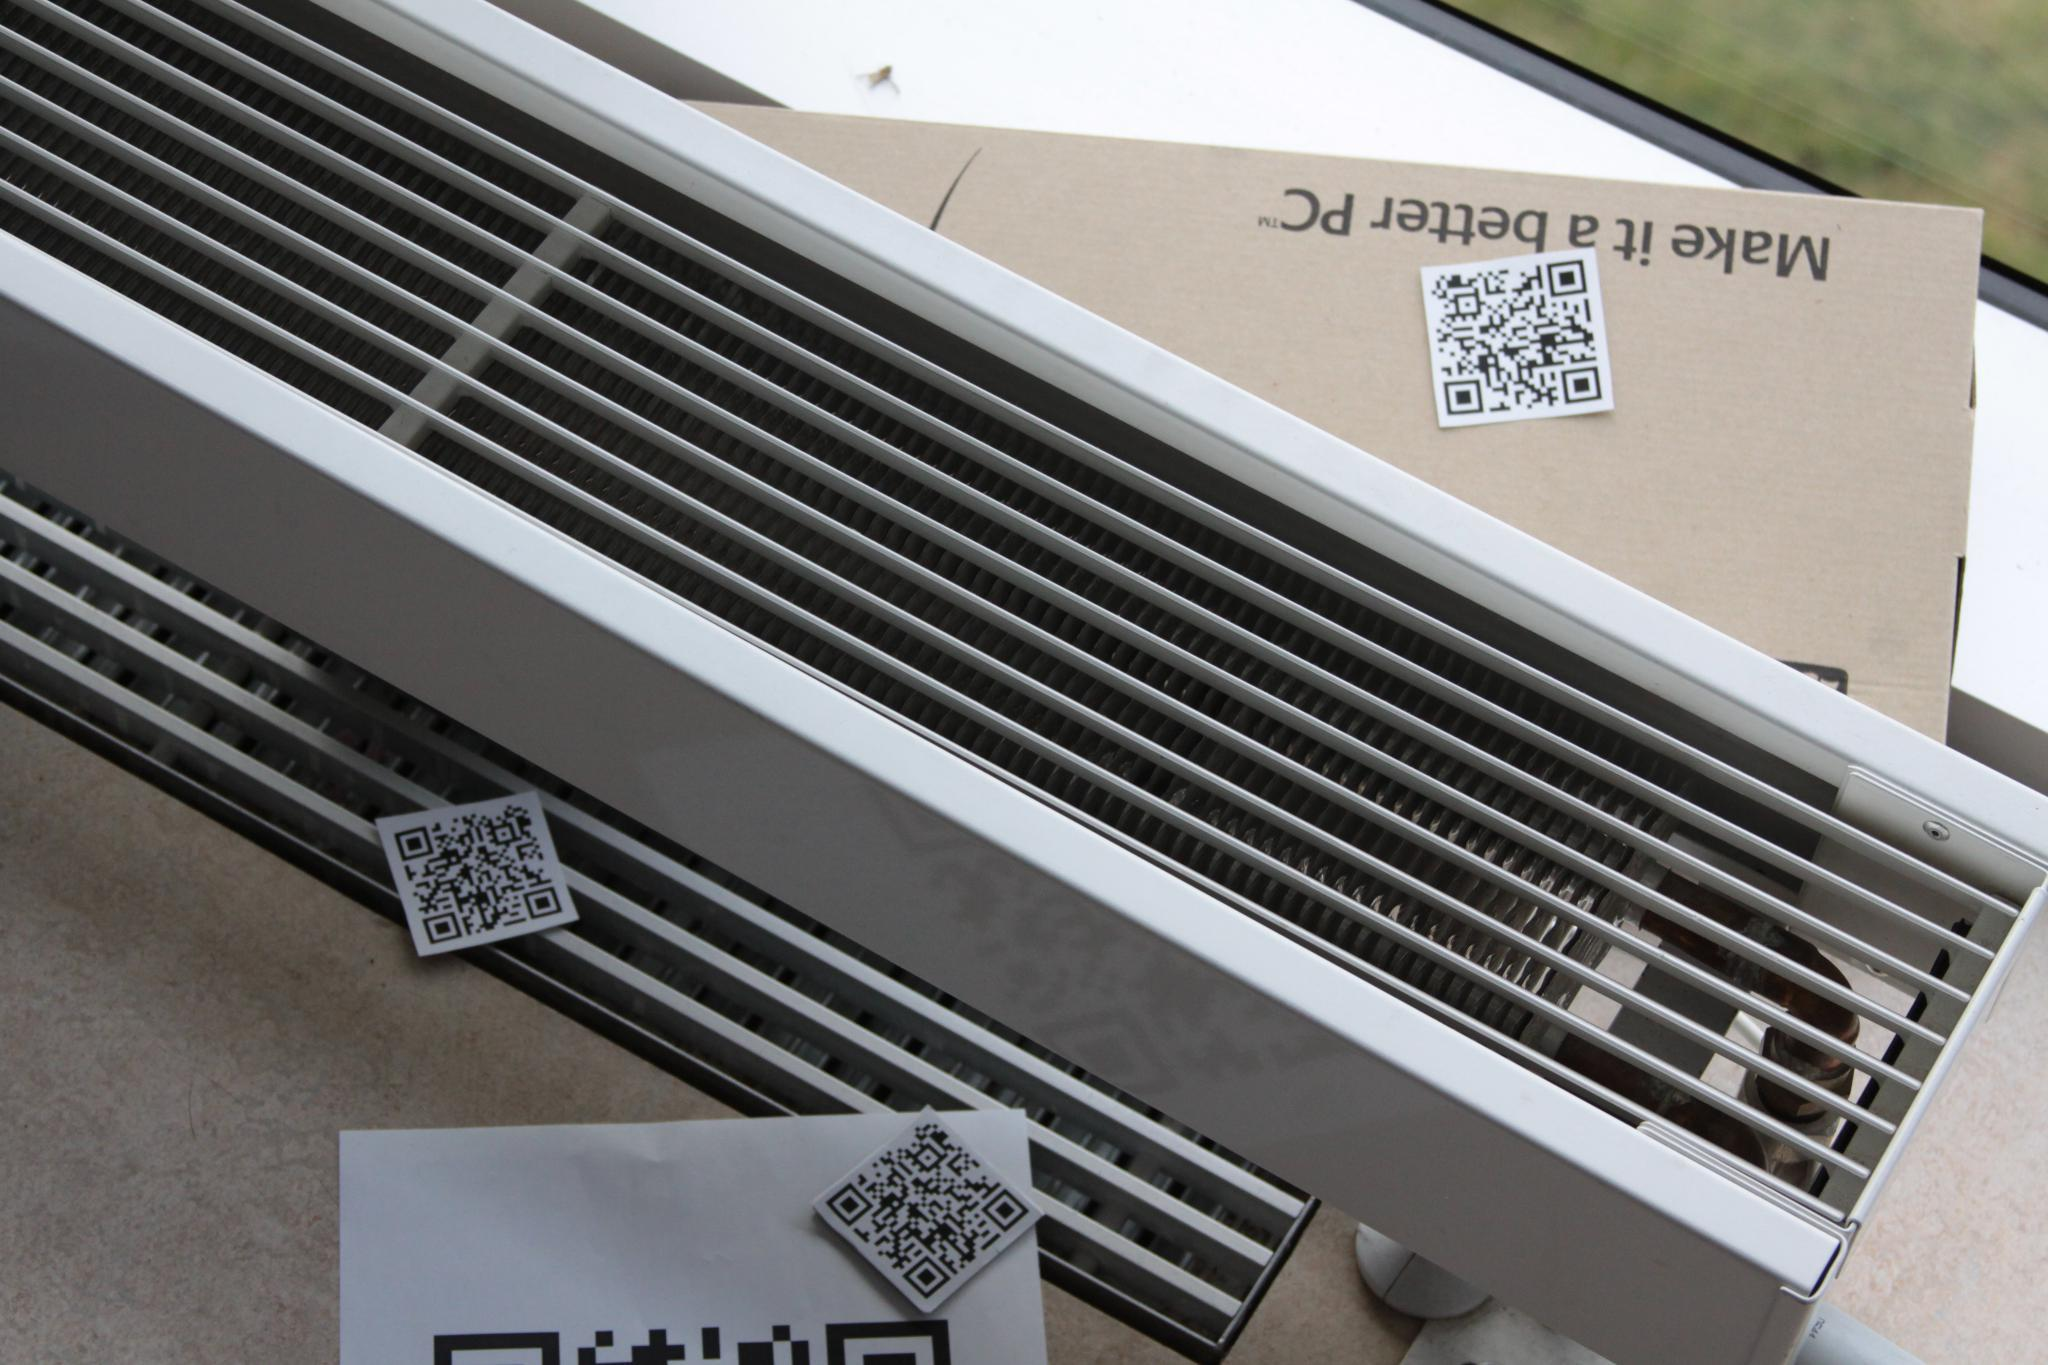Finder pattern: (898, 1252, 955, 1301), (821, 1181, 879, 1226), (978, 1188, 1028, 1237), (1440, 373, 1491, 420), (1561, 358, 1606, 408), (417, 905, 466, 948), (391, 821, 437, 865), (1542, 257, 1587, 302), (516, 884, 565, 917)
